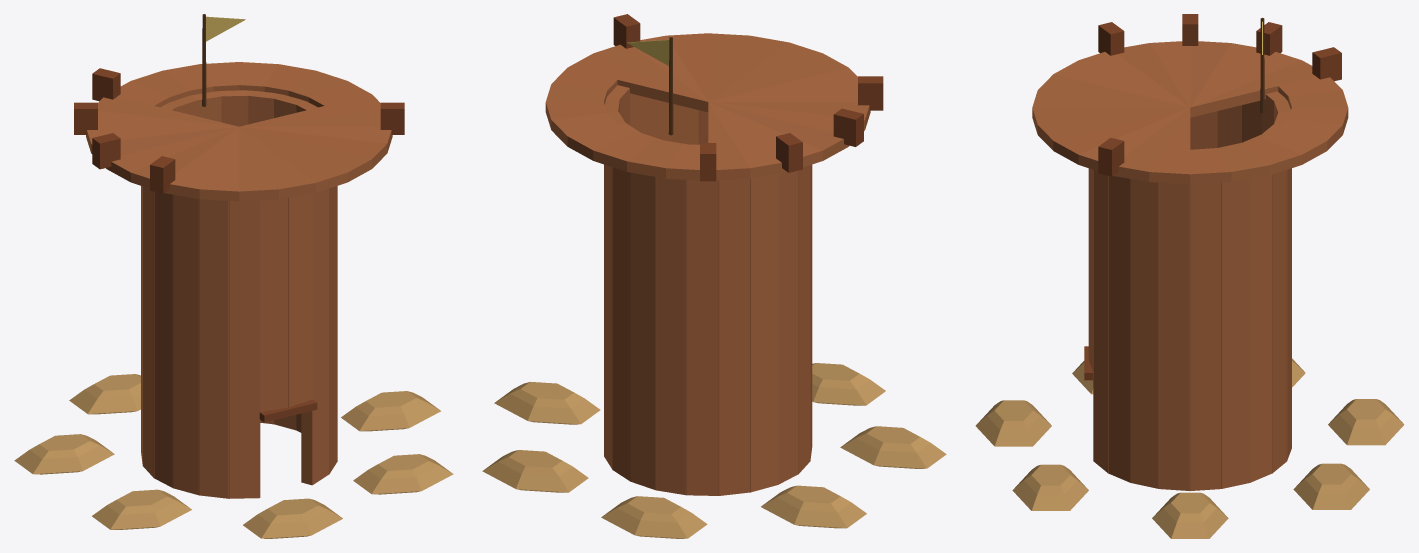
The model's file is tower_canyon_hollow.glb.
The picture shows the model from 3 angles, left to right: view 1: azimuth 30°, elevation 25°; view 2: azimuth 150°, elevation 25°; view 3: azimuth 270°, elevation 25°; orthographic projection. The views are drawn at different scales.
Visible parts, largest first — view 1: tower_canyon_hollow; view 2: tower_canyon_hollow; view 3: tower_canyon_hollow.
Part boxes in pixels (x1,y1,x2,y2): tower_canyon_hollow: (14,14,453,538); tower_canyon_hollow: (482,14,946,538); tower_canyon_hollow: (975,14,1404,538).
Bounding box in the file's own units: 19.56 × 21 × 19.01.
